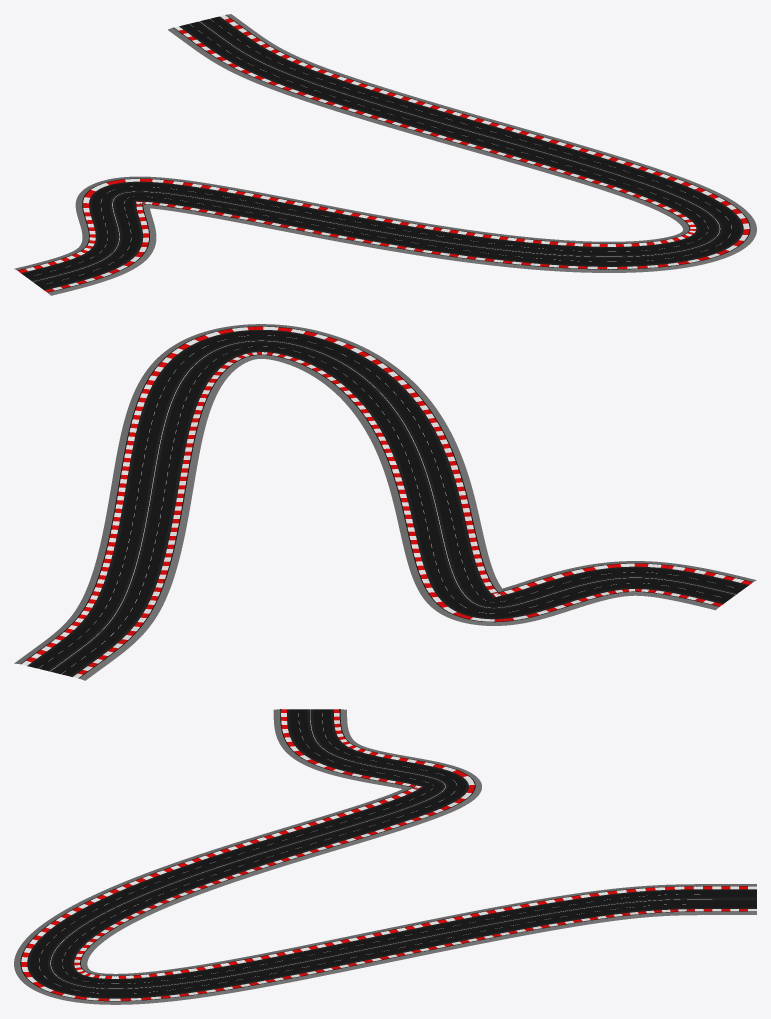
File: S0.1c1h0-emn.glb
3 views of the same model, one above another, from view 1: azimuth 30°, elevation 25°; view 2: azimuth 150°, elevation 25°; view 3: azimuth 270°, elevation 25° (orthographic). The views are drawn at different scales.
Parts seen in each view (by area): view 1: Grid; view 2: Grid; view 3: Grid.
Part boxes in pixels (<box>): Grid: <box>14,14,756,295</box>; Grid: <box>14,324,756,680</box>; Grid: <box>14,709,756,1004</box>.
Bounding box in the file's own units: 238 × 0.31 × 253.
